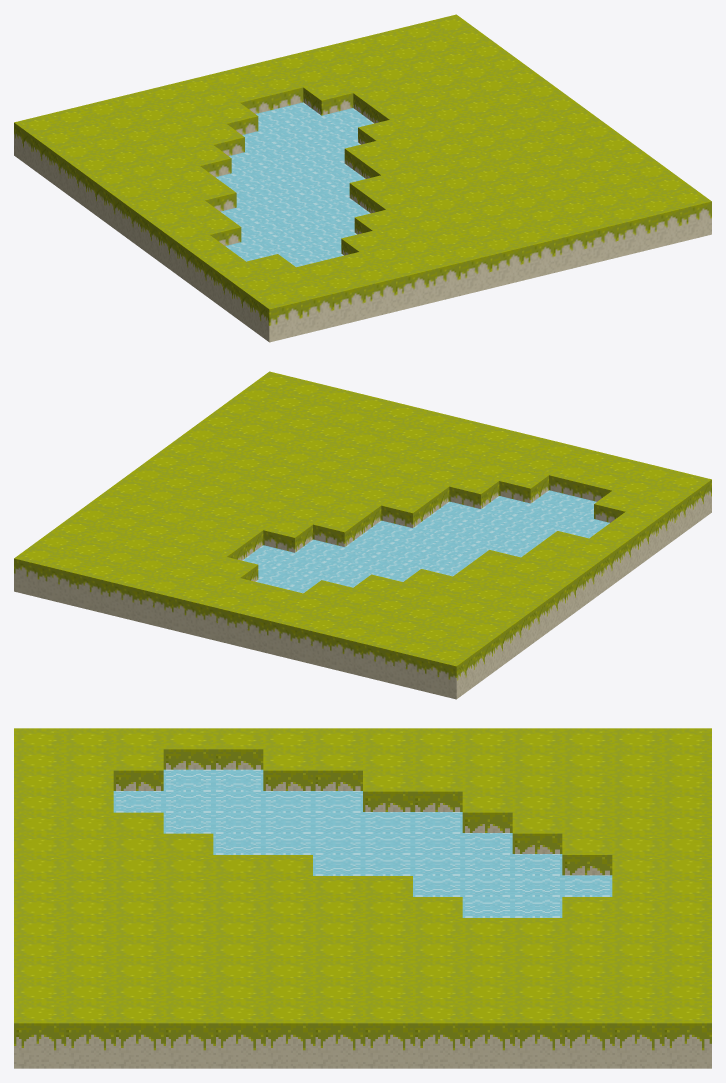
The model's file is st1_mhe1.fbx.
3 renders of one model, top to bottom at view 1: azimuth 30°, elevation 25°; view 2: azimuth 150°, elevation 25°; view 3: azimuth 270°, elevation 25°, orthographic. The views are drawn at different scales.
Visible parts, largest first — view 1: Ground_Grass_D__2__1__42__1; view 2: Ground_Grass_D__2__1__42__1; view 3: Ground_Grass_D__2__1__42__1.
Part boxes in pixels (<box>): Ground_Grass_D__2__1__42__1: <box>14,14,711,342</box>; Ground_Grass_D__2__1__42__1: <box>14,371,711,699</box>; Ground_Grass_D__2__1__42__1: <box>14,728,711,1068</box>.
Bounding box in the file's own units: 8400 × 600 × 8400.
2 materials, 2 textured.
